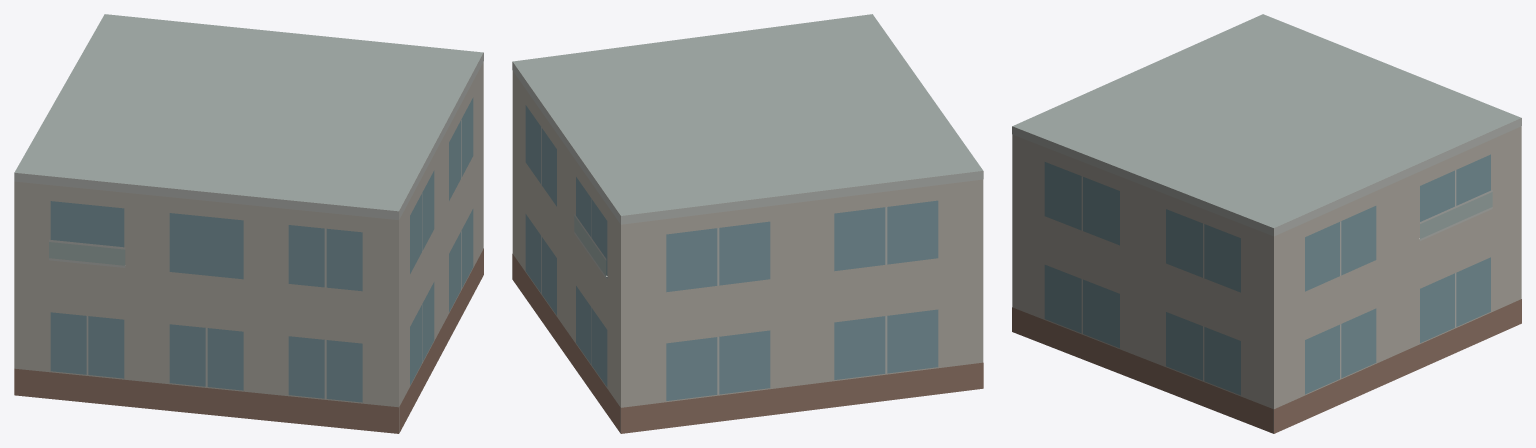
File: survey-upis-33018520.glb
The picture shows the model from 3 angles, left to right: view 1: azimuth 30°, elevation 25°; view 2: azimuth 150°, elevation 25°; view 3: azimuth 270°, elevation 25°; orthographic projection. The views are drawn at different scales.
Visible parts, largest first — view 1: survey-upis-33018520.tmp; view 2: survey-upis-33018520.tmp; view 3: survey-upis-33018520.tmp.
Boxes of the visible parts, x1,y1,x2,y2 form: survey-upis-33018520.tmp: (14, 14, 483, 433); survey-upis-33018520.tmp: (512, 14, 983, 433); survey-upis-33018520.tmp: (1012, 14, 1521, 433).
Bounding box in the file's own units: 13.64 × 6.1 × 13.71.
